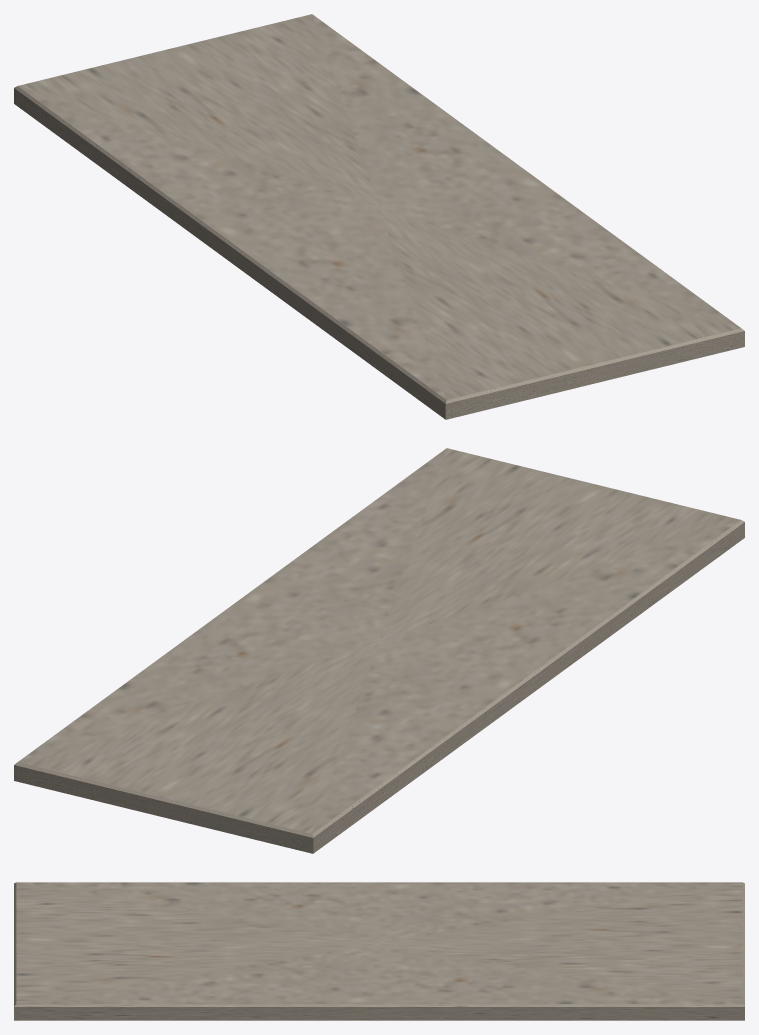
The model's file is showcase_sidewalk.glb.
3 views of the same model, one above another, from view 1: azimuth 30°, elevation 25°; view 2: azimuth 150°, elevation 25°; view 3: azimuth 270°, elevation 25° (orthographic). The views are drawn at different scales.
Parts seen in each view (by area): view 1: outdoor_showcase_sidewalk; view 2: outdoor_showcase_sidewalk; view 3: outdoor_showcase_sidewalk.
Part boxes in pixels (x1,y1,x2,y2): outdoor_showcase_sidewalk: (14,14,744,419); outdoor_showcase_sidewalk: (14,448,744,853); outdoor_showcase_sidewalk: (14,882,744,1020).
Bounding box in the file's own units: 2.4 × 0.14 × 6.
1 material, 1 textured.
